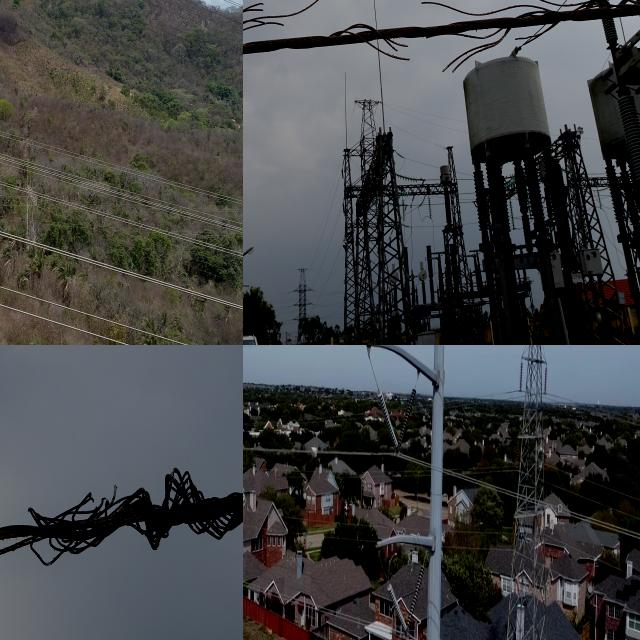杆塔: (498, 345, 558, 640)
正常绝缘子: (391, 379, 420, 468), (373, 378, 404, 457), (515, 353, 526, 398), (539, 353, 549, 399)
电缆破损: (0, 448, 243, 575), (243, 0, 623, 81)
